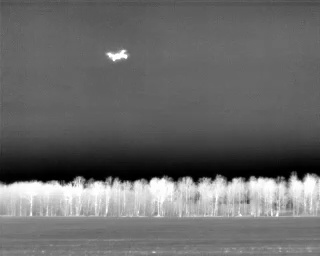DRONE: (103, 44, 133, 67)
